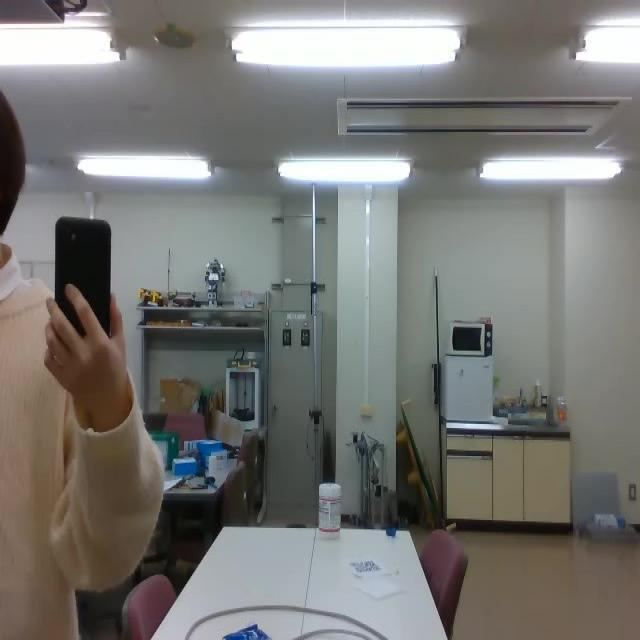Phone: (51, 215, 113, 342)
